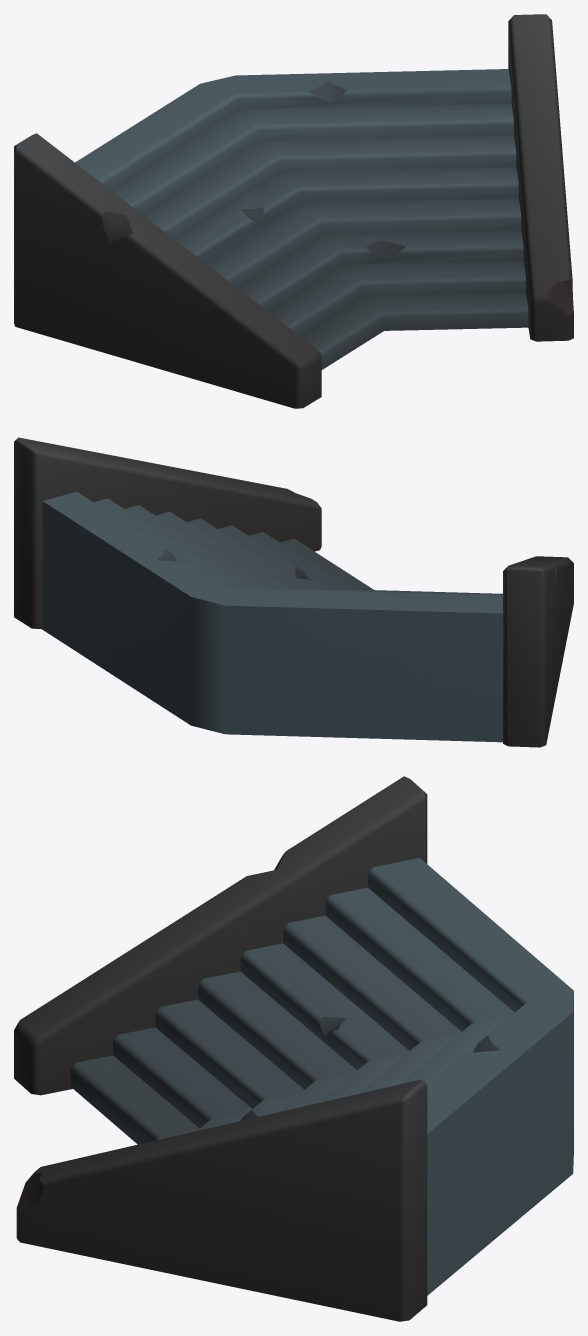
The model's file is PlatformStar_001_002.glb.
The picture shows the model from 3 angles, top to bottom: view 1: azimuth 30°, elevation 25°; view 2: azimuth 150°, elevation 25°; view 3: azimuth 270°, elevation 25°; orthographic projection. The views are drawn at different scales.
Parts seen in each view (by area): view 1: PlatformStar_001.002; view 2: PlatformStar_001.002; view 3: PlatformStar_001.002.
Boxes of the visible parts, box(x1,y1,x2,y2) form: PlatformStar_001.002: box(14, 14, 573, 408); PlatformStar_001.002: box(14, 437, 573, 747); PlatformStar_001.002: box(14, 776, 573, 1321).
Bounding box in the file's own units: 15.23 × 4.94 × 11.07.
1 material, 1 textured.
